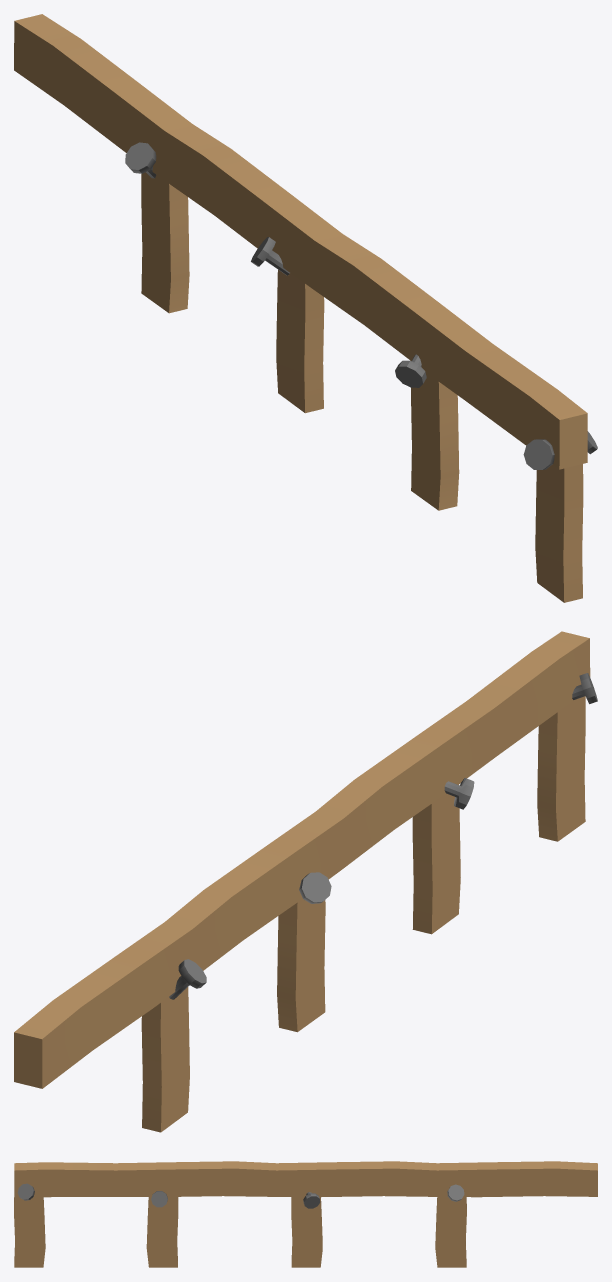
File: SM_PlankRailing.fbx
3 renders of one model, top to bottom at view 1: azimuth 30°, elevation 25°; view 2: azimuth 150°, elevation 25°; view 3: azimuth 270°, elevation 25°, orthographic. The views are drawn at different scales.
Parts seen in each view (by area): view 1: PlankRailing; view 2: PlankRailing; view 3: PlankRailing.
Boxes of the visible parts, left/top/right/bottom form: PlankRailing: left=14, top=14, right=597, bottom=602; PlankRailing: left=14, top=631, right=597, bottom=1132; PlankRailing: left=14, top=1161, right=597, bottom=1267.
Size of the model in its own units: 31.29 by 75.81 by 400.
